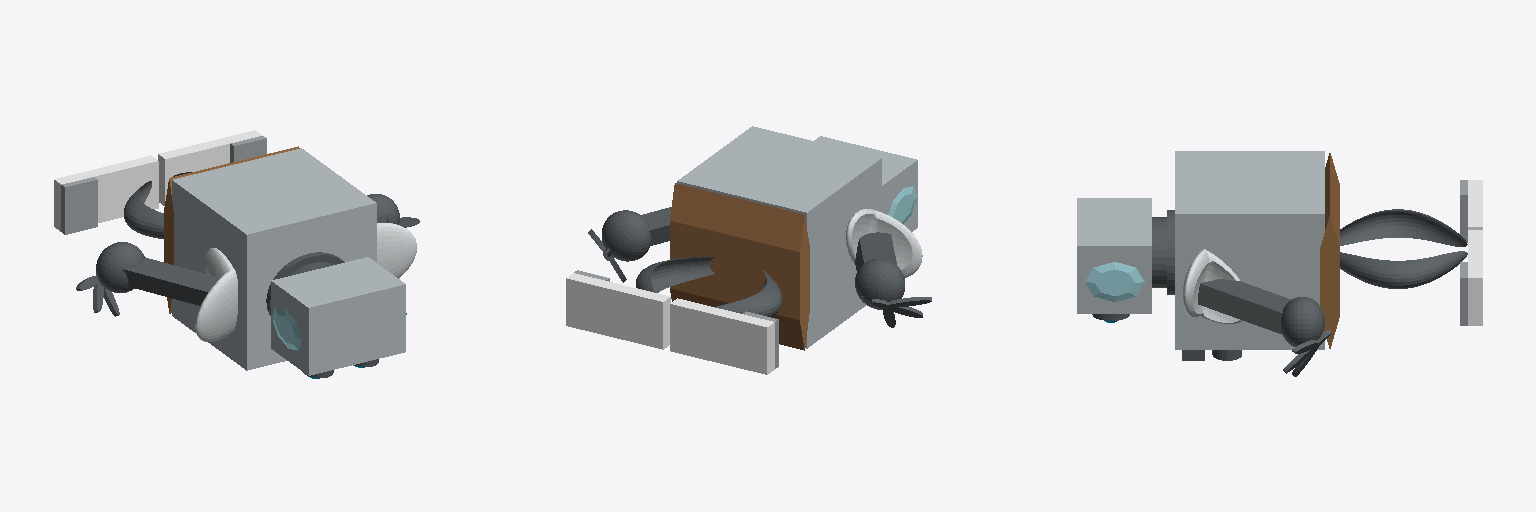
Rendered from tinker.obj.
3 views of the same model, side by side, from view 1: azimuth 30°, elevation 25°; view 2: azimuth 150°, elevation 25°; view 3: azimuth 270°, elevation 25° (orthographic).
Visible parts, largest first — view 1: obj_0; view 2: obj_0; view 3: obj_0.
Boxes of the visible parts, x1=… form: obj_0: x1=54, y1=130, x2=419, y2=378; obj_0: x1=566, y1=126, x2=931, y2=374; obj_0: x1=1077, y1=151, x2=1482, y2=376.
Size of the model in its own units: 53 by 22 by 54.